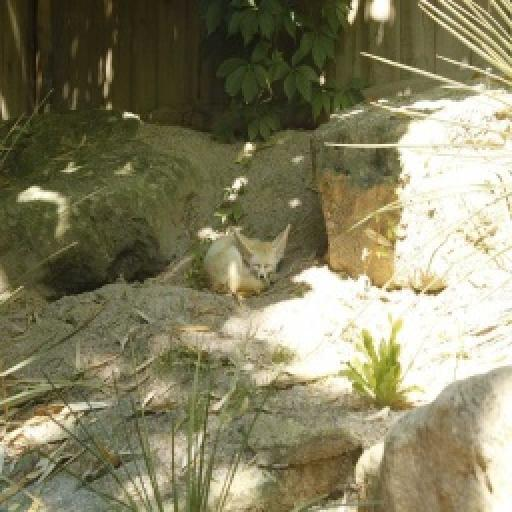zorro: (204, 226, 290, 294)
